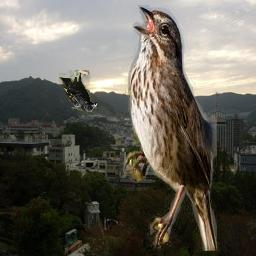Crow: (59, 70, 97, 112)
Sparrow: (123, 5, 217, 251)
